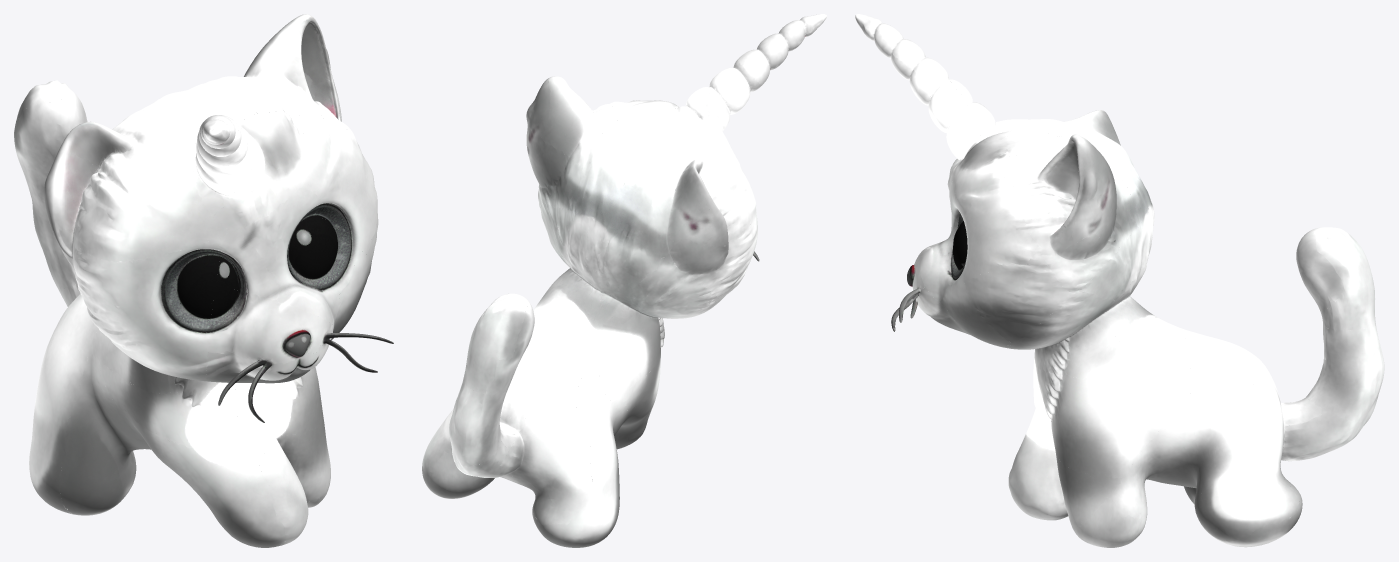
File: kitty_rigsrc.glb
3 renders of one model, left to right at view 1: azimuth 30°, elevation 25°; view 2: azimuth 150°, elevation 25°; view 3: azimuth 270°, elevation 25°, orthographic. The views are drawn at different scales.
Visible parts, largest first — view 1: mesh_node; view 2: mesh_node; view 3: mesh_node.
Part boxes in pixels (left/top/right/bottom): mesh_node: left=14, top=14, right=393, bottom=547; mesh_node: left=422, top=14, right=826, bottom=547; mesh_node: left=855, top=14, right=1384, bottom=547.
Size of the model in its own units: 1.04 by 1.81 by 1.9.
Materials: 1 (1 with a texture image).
